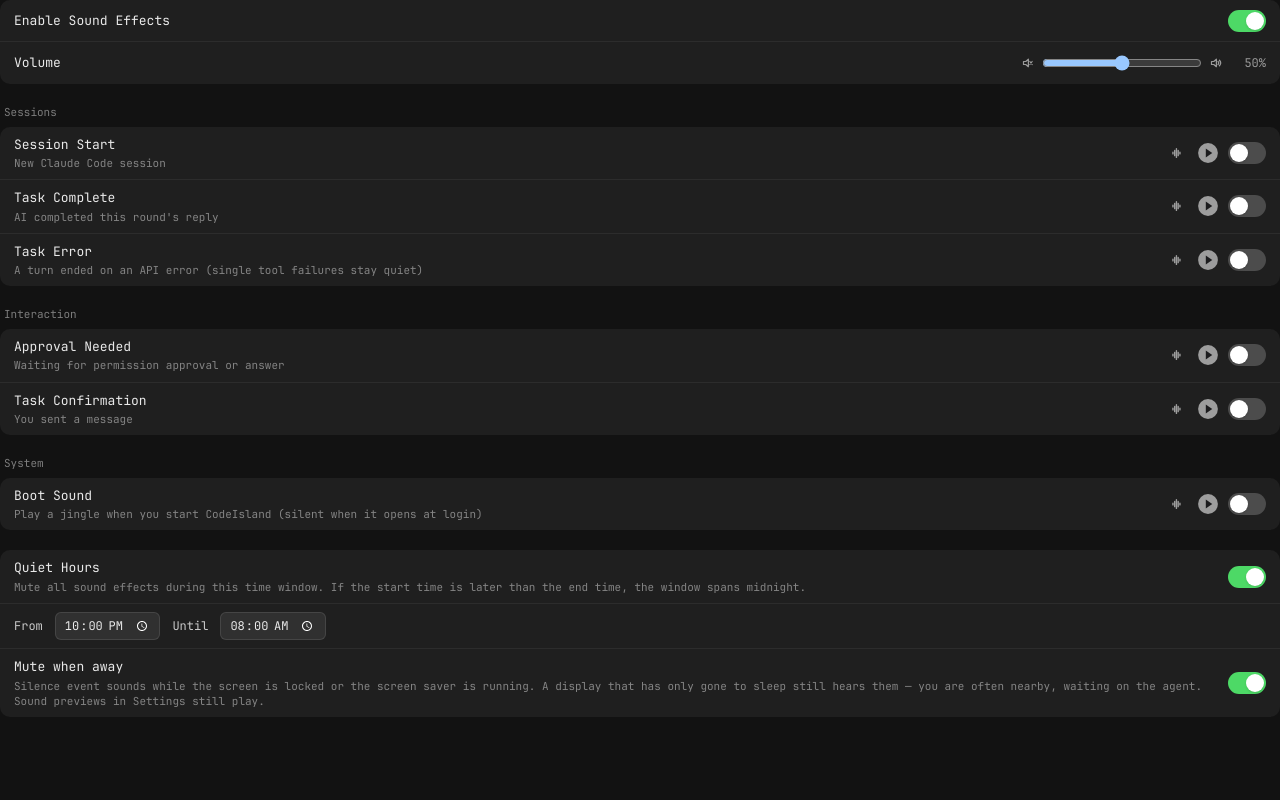
Test: sound settings › selects, previews and resets one custom cue with quiet hours enabled
Click the button named "Choose Sound File — Session Start".
click(1176, 153)  # box [1164, 140, 1188, 166]
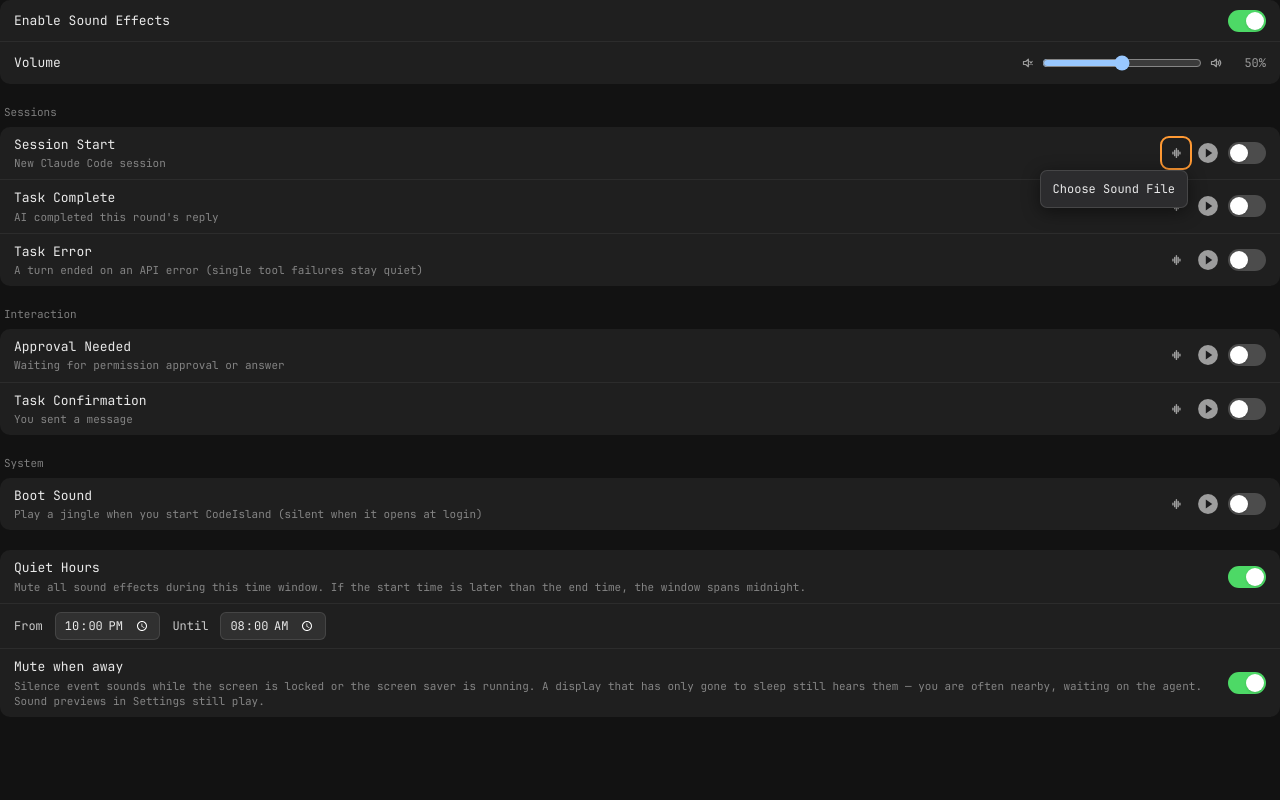
# jsdom leaves native popovers closed, so dispatch the menu action directly.
Click the button "Choose Sound File".
click(1114, 189)  # box [1045, 175, 1183, 203]
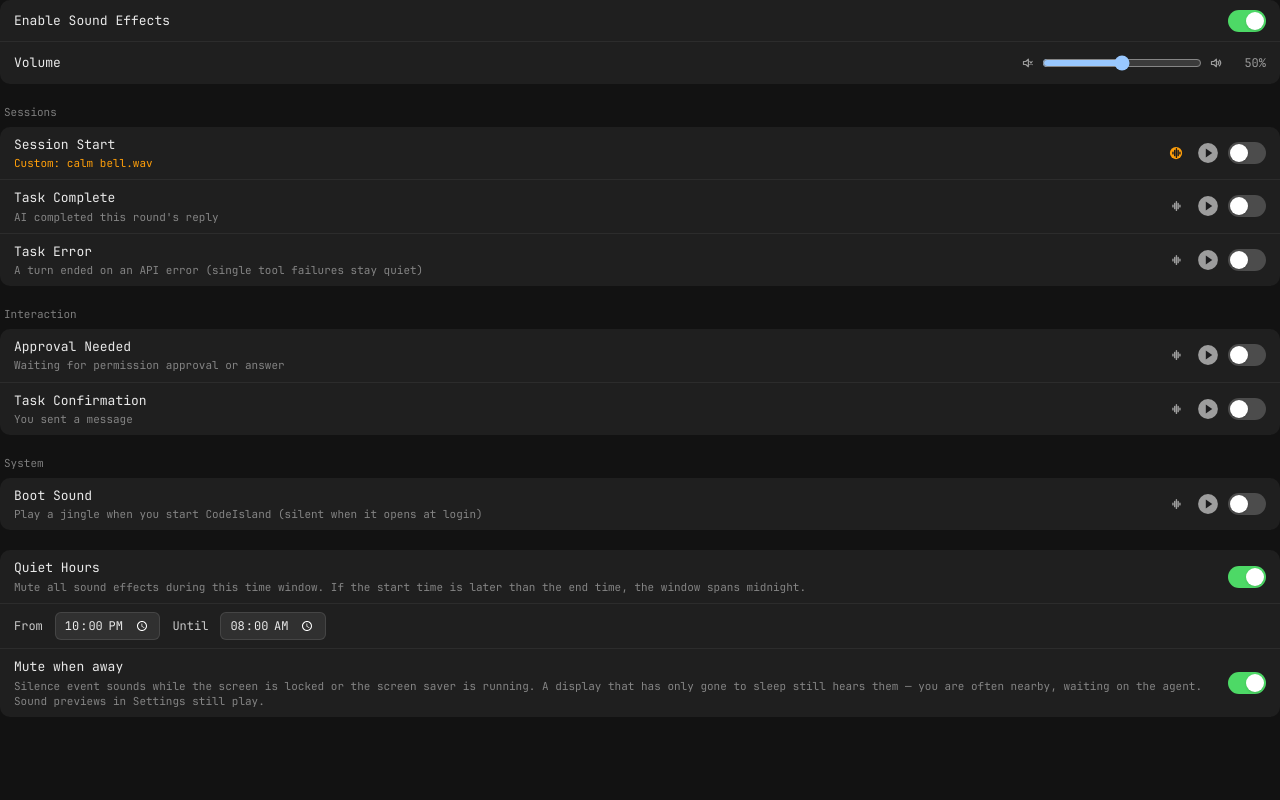
Expected: the time field labelled "From" is shown, [55, 612, 160, 640]
Expected: the text "Custom: calm bell.wav" is shown, [14, 156, 153, 170]
Click the button named "Preview — Session Start".
click(1208, 153)  # box [1196, 140, 1220, 166]
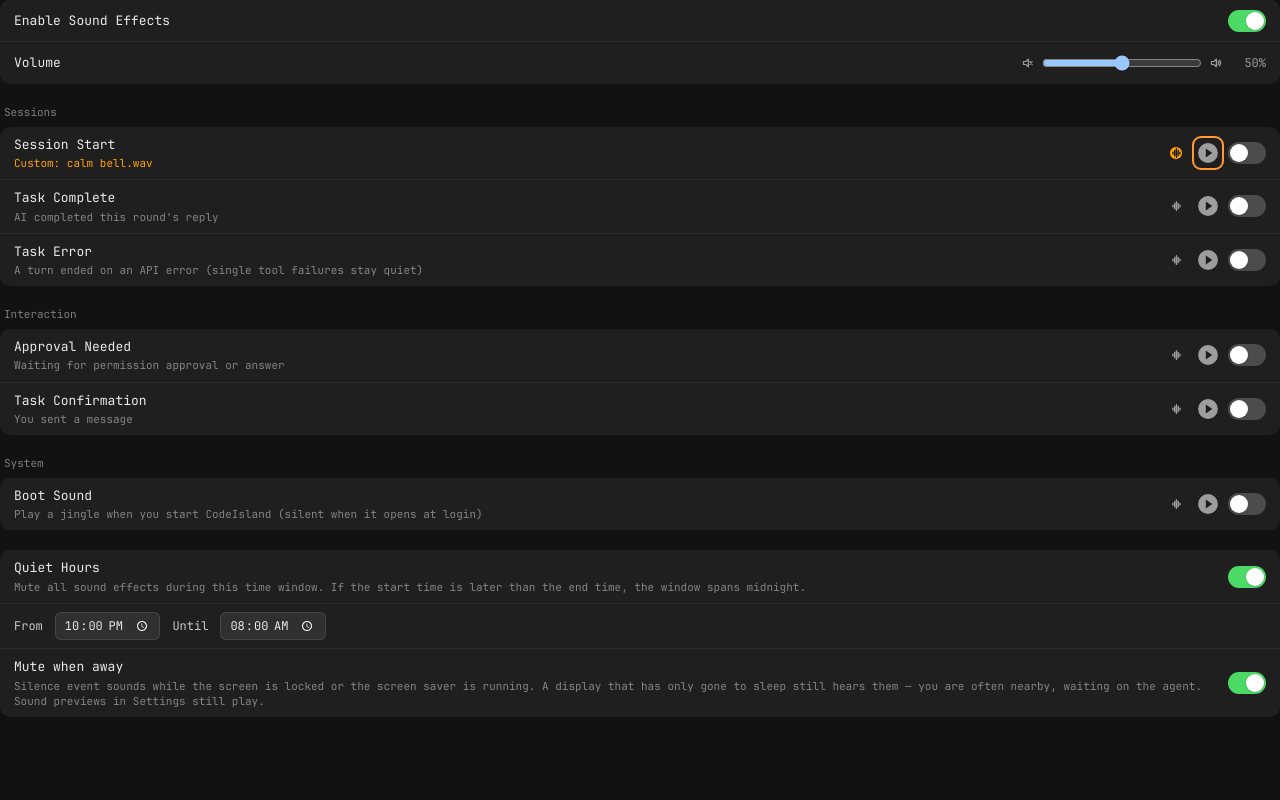
Click the button named "Choose Sound File — Session Start".
click(1176, 153)  # box [1164, 140, 1188, 166]
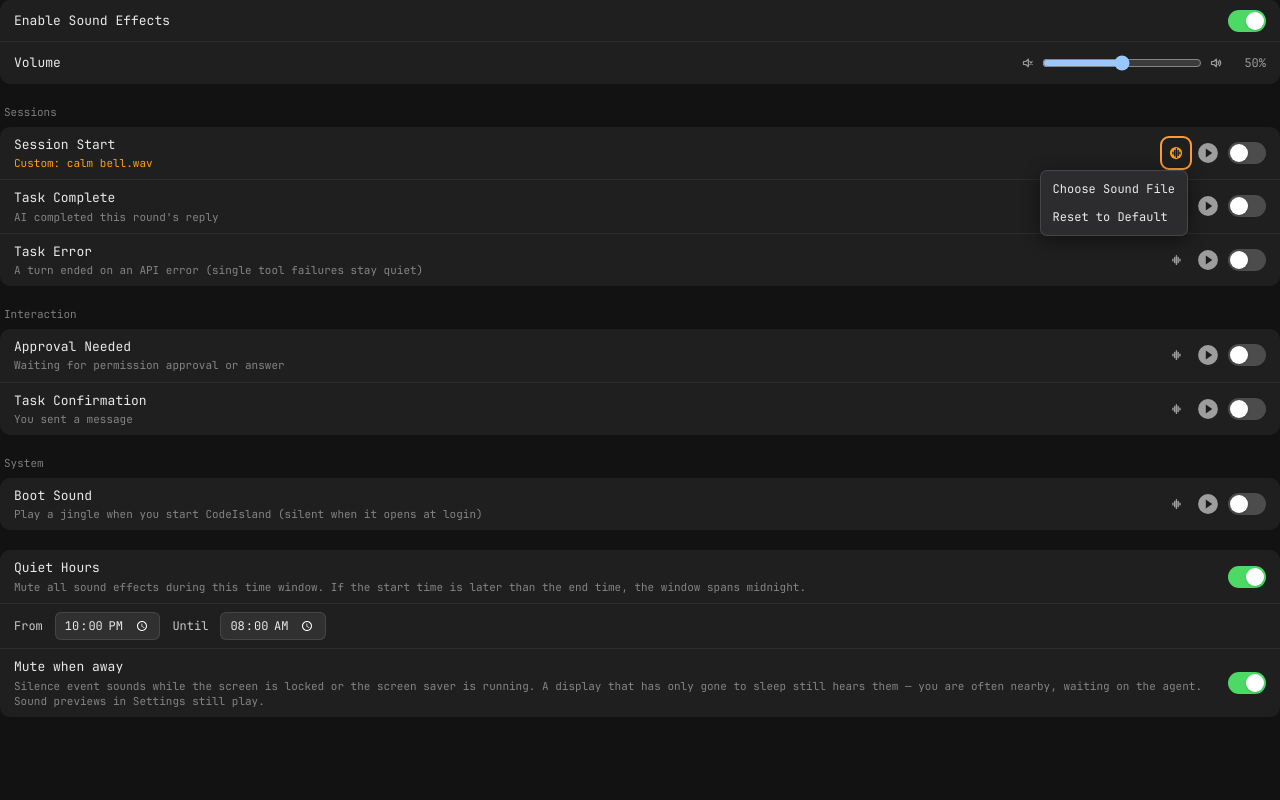
Click the button "Reset to Default".
click(1114, 217)  # box [1045, 203, 1183, 231]
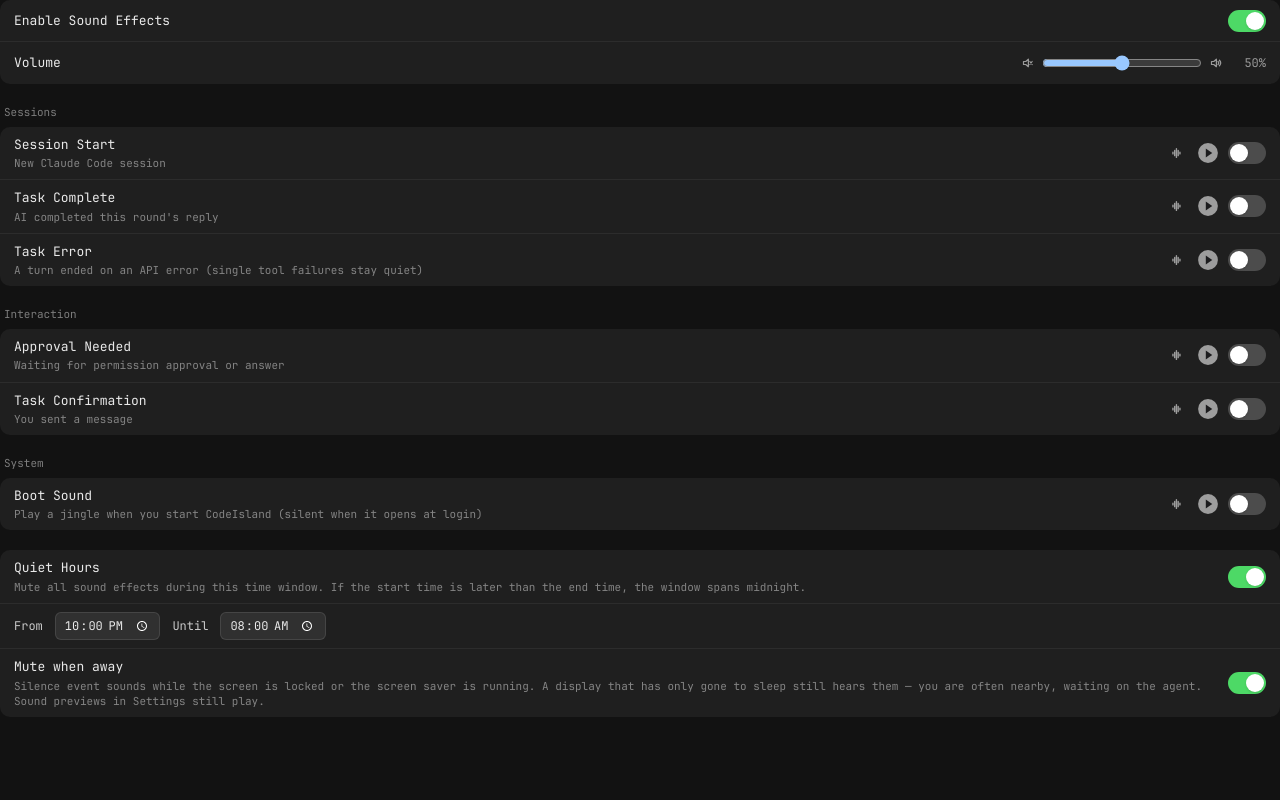
Expected: the text "Custom: calm bell.wav" is gone
Expected: the text "New Claude Code session" is shown, [14, 156, 166, 171]
